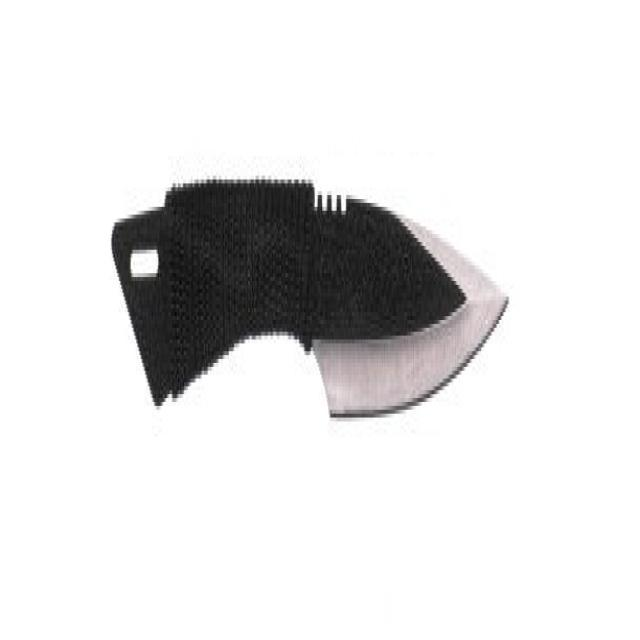knife: (106, 171, 512, 425)
